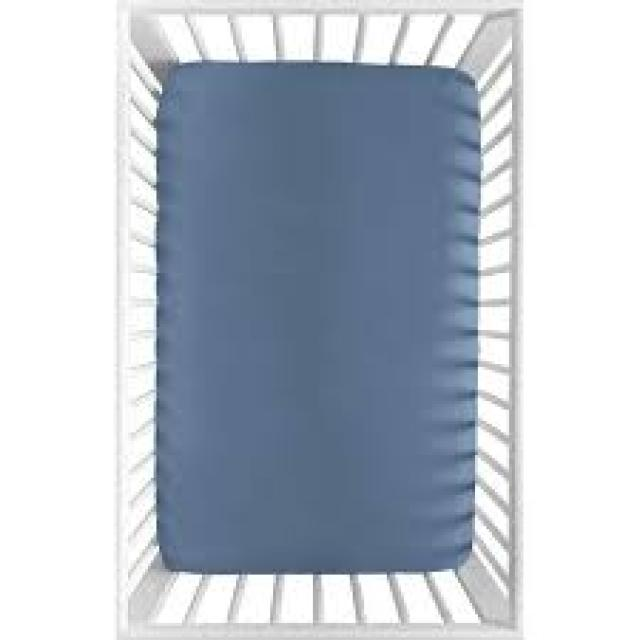crib: (111, 0, 523, 637)
